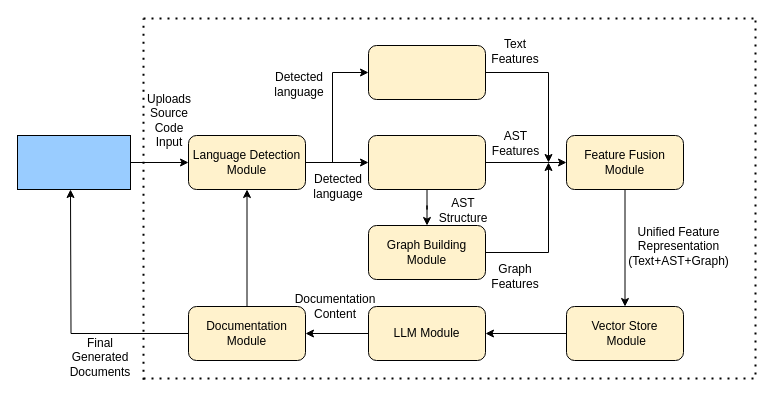
The diagram is 777 pixels wide and 399 high, and some of its shapes have lost their labels. Each missing label, with the box of its shape:
AST Analysis Module: (368, 134, 486, 190)
Text Feature Extraction Module: (368, 44, 486, 100)
USER: (16, 134, 130, 190)
